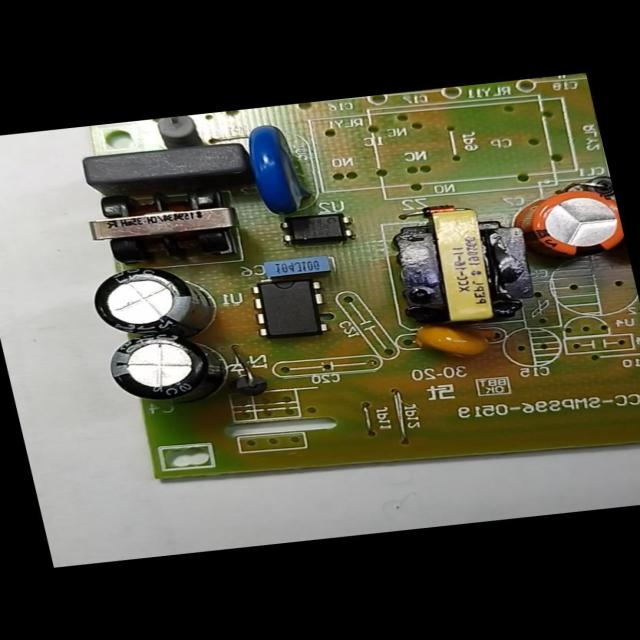Cap1: (499, 179, 628, 271)
Cap3: (81, 258, 228, 350)
Cap4: (100, 322, 248, 419)
MOSFET: (241, 266, 338, 348)
Mov: (235, 114, 327, 224)
Resistor: (148, 114, 209, 160)
Transformer: (376, 191, 554, 340), (79, 180, 256, 276)
